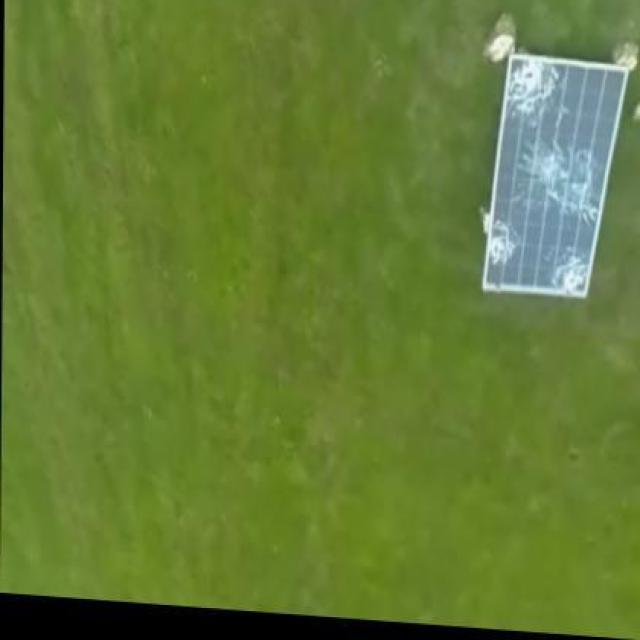cracked: (480, 47, 625, 297)
